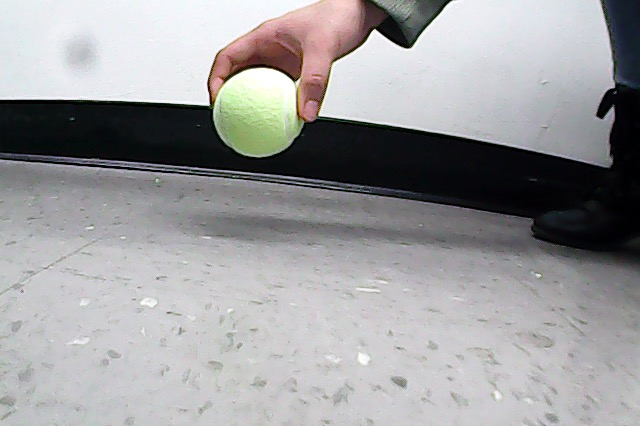ball: (213, 67, 306, 159)
